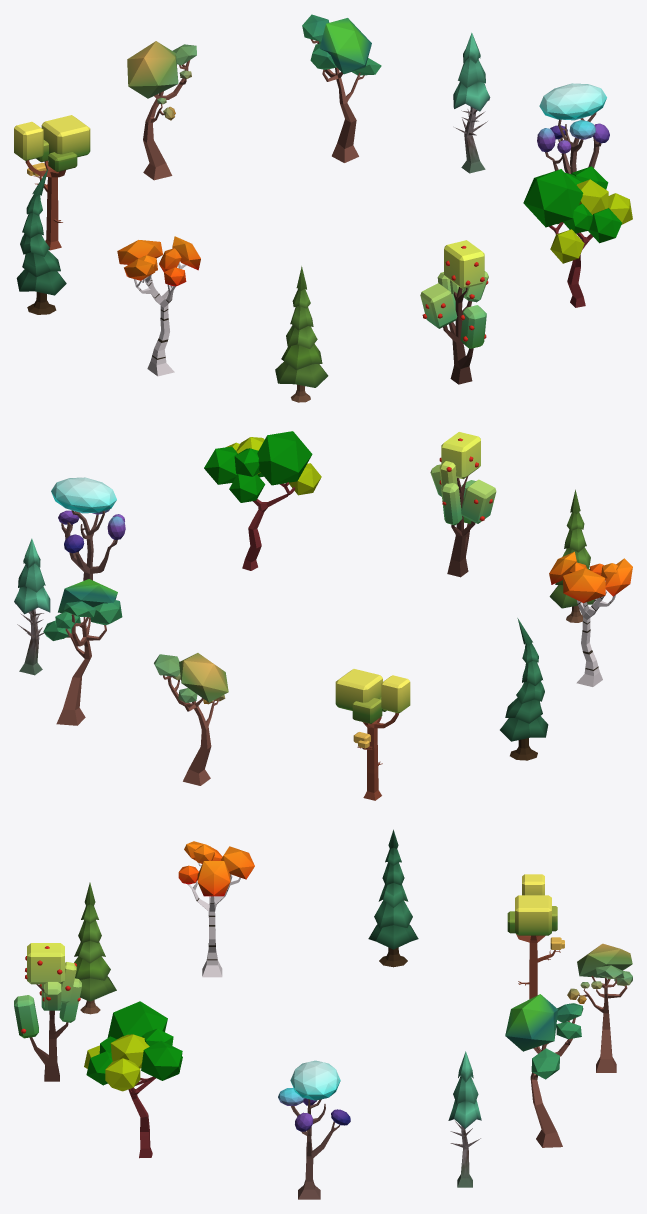
Rendered from CircleOfThrees2.glb.
The picture shows the model from 3 angles, top to bottom: view 1: azimuth 30°, elevation 25°; view 2: azimuth 150°, elevation 25°; view 3: azimuth 270°, elevation 25°; orthographic projection. The views are drawn at different scales.
Parts seen in each view (by area): view 1: fruit cube tree, cube tree, bonsai 2, bonsai, Icosphere.001, sky tree, birch, dark pine, pine _Material.010_0, semi deth pine, Icosphere.008, Icosphere.003 (+1 smaller); view 2: fruit cube tree, Icosphere.001, bonsai 2, cube tree, sky tree, birch, bonsai, dark pine, semi deth pine, pine _Material.010_0, Cube, Icosphere.003; view 3: fruit cube tree, bonsai 2, Icosphere.001, birch, sky tree, cube tree, dark pine, bonsai, pine _Material.010_0, semi deth pine, Icosphere.008, Cube.
Boxes of the visible parts, <box> form: fruit cube tree: <box>420,240,488,384</box>; cube tree: <box>14,115,90,250</box>; bonsai 2: <box>302,14,381,162</box>; bonsai: <box>127,41,196,180</box>; Icosphere.001: <box>523,166,621,243</box>; sky tree: <box>537,83,609,173</box>; birch: <box>117,236,200,376</box>; dark pine: <box>16,169,66,314</box>; pine _Material.010_0: <box>275,266,328,387</box>; semi deth pine: <box>453,32,490,173</box>; Icosphere.008: <box>576,179,632,224</box>; Icosphere.003: <box>550,229,584,263</box>; fruit cube tree: <box>430,432,496,577</box>; Icosphere.001: <box>204,431,312,502</box>; bonsai 2: <box>43,579,122,725</box>; cube tree: <box>335,669,410,800</box>; sky tree: <box>51,477,125,580</box>; birch: <box>549,551,632,686</box>; bonsai: <box>154,653,228,785</box>; dark pine: <box>500,618,548,760</box>; semi deth pine: <box>14,538,50,675</box>; pine _Material.010_0: <box>549,489,594,608</box>; Cube: <box>242,482,295,570</box>; Icosphere.003: <box>289,463,321,495</box>; fruit cube tree: <box>14,943,81,1081</box>; bonsai 2: <box>505,994,583,1147</box>; Icosphere.001: <box>86,1001,182,1085</box>; birch: <box>178,841,254,977</box>; sky tree: <box>278,1060,350,1199</box>; cube tree: <box>507,874,564,999</box>; dark pine: <box>368,829,418,967</box>; bonsai: <box>567,943,632,1072</box>; pine _Material.010_0: <box>74,882,116,1001</box>; semi deth pine: <box>448,1051,481,1187</box>; Icosphere.008: <box>105,1034,149,1091</box>; Cube: <box>128,1076,155,1158</box>.
Size of the model in its own units: 22.37 by 5.99 by 22.72.
Materials: 24 (10 with a texture image).
